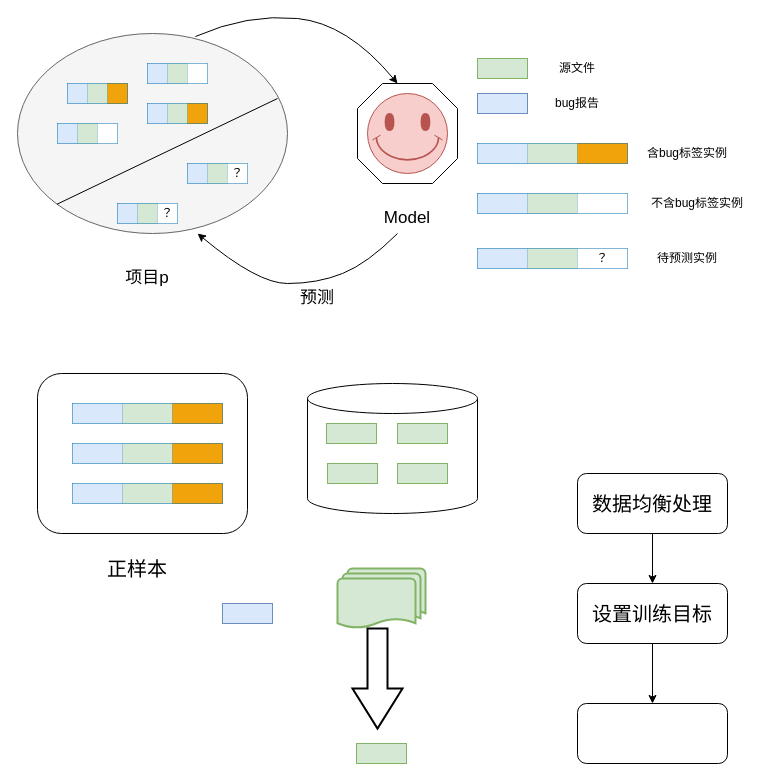
Image size: 765x781. Some labels were removed from this diagram. Each missing label, with the centre of its shape:
"LTR模型训练" goes at [652,733].
"源文件A.java" goes at [381,598].
